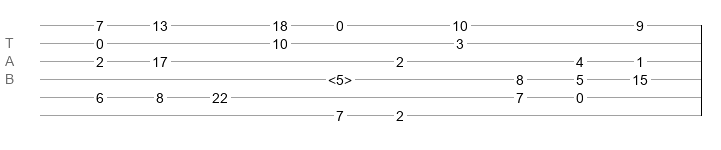0: (96, 36, 104, 46), (336, 18, 344, 28), (576, 90, 584, 100)
1: (636, 54, 644, 64)
10: (272, 36, 288, 46), (452, 18, 468, 28)
13: (152, 18, 168, 28)
15: (632, 72, 648, 82)
17: (152, 54, 168, 64)
18: (272, 18, 288, 28)
2: (96, 54, 104, 64), (396, 54, 404, 64), (396, 108, 404, 118)
22: (212, 90, 228, 100)
3: (456, 36, 464, 46)
4: (576, 54, 584, 64)
5: (576, 72, 584, 82)
6: (96, 90, 104, 100)
7: (96, 18, 104, 28), (336, 108, 344, 118), (516, 90, 524, 100)
8: (156, 90, 164, 100), (516, 72, 524, 82)
9: (636, 18, 644, 28)
harmonic: (328, 72, 352, 82)
